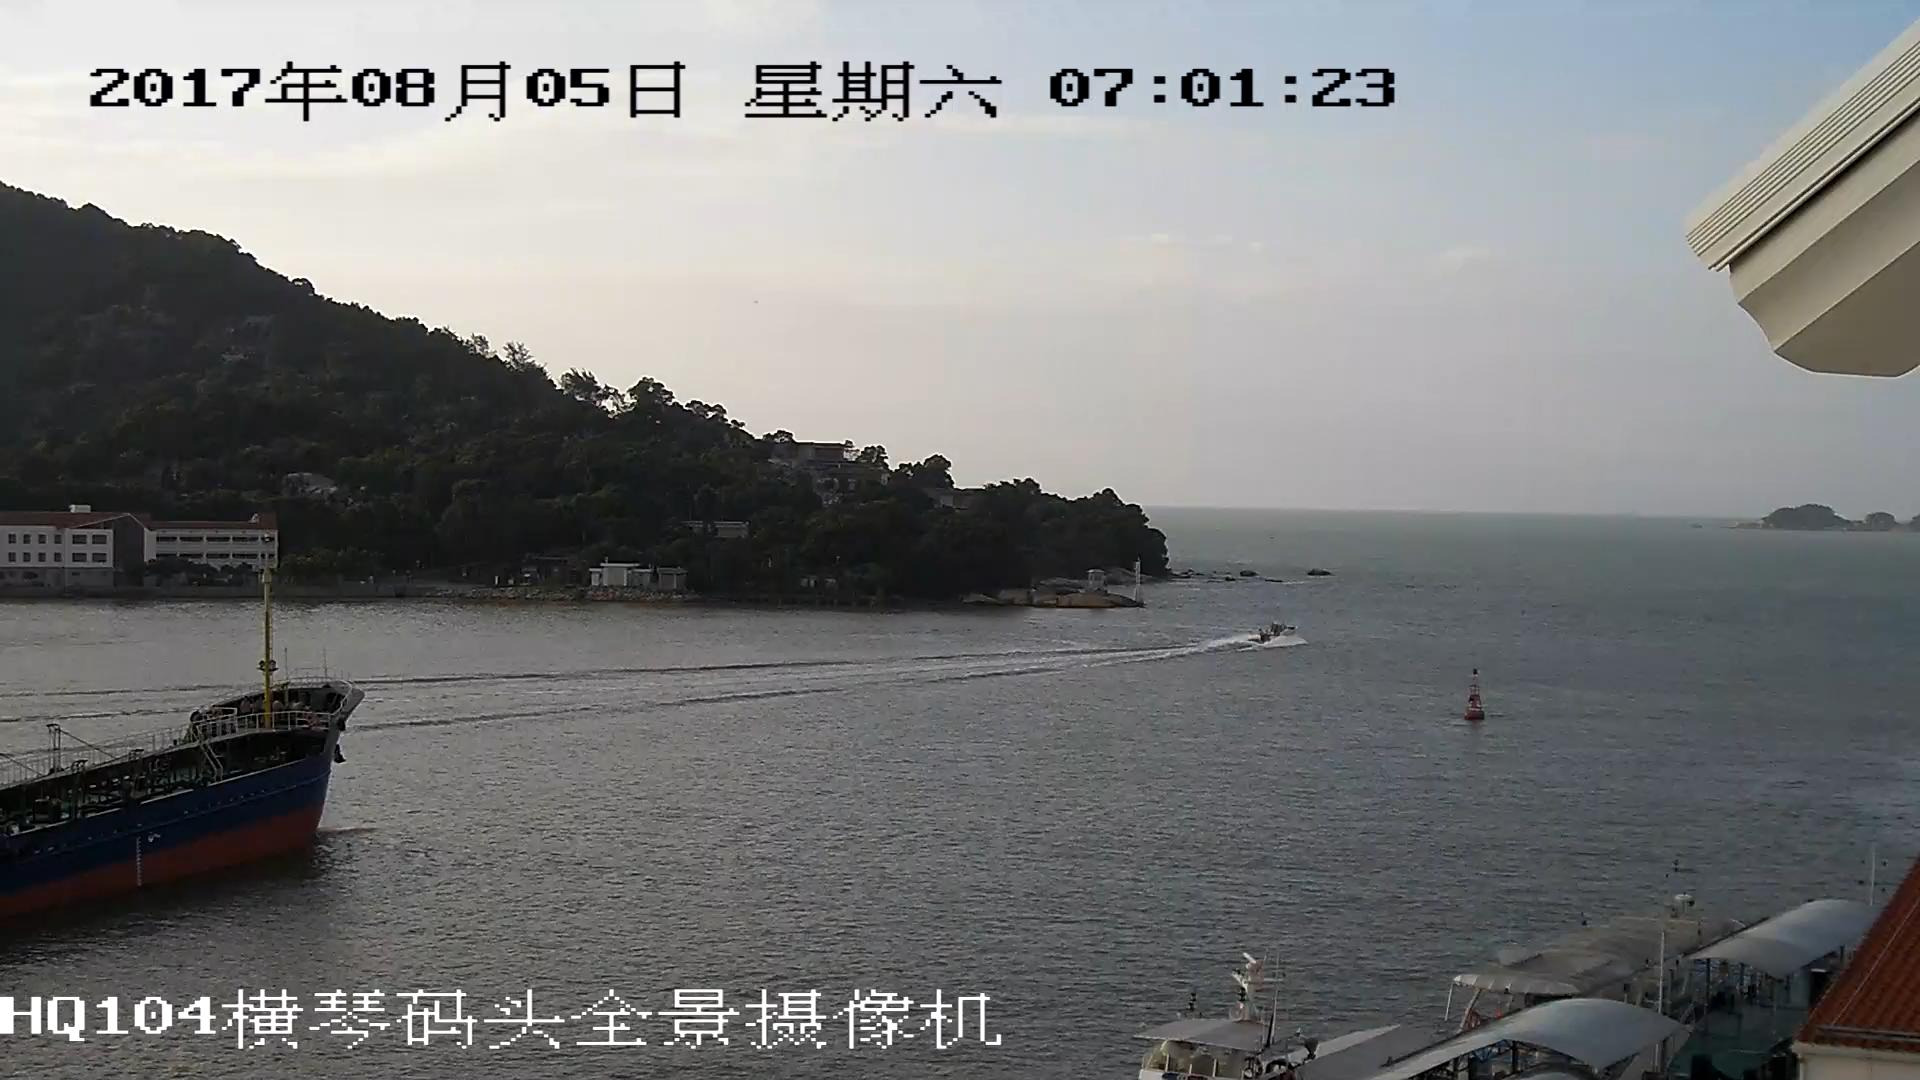general cargo ship: (1, 542, 352, 934)
